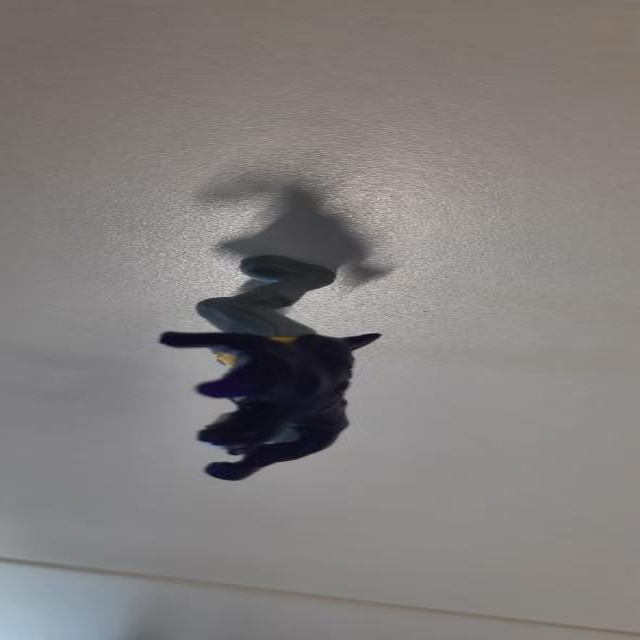Batman: (139, 232, 391, 488)
